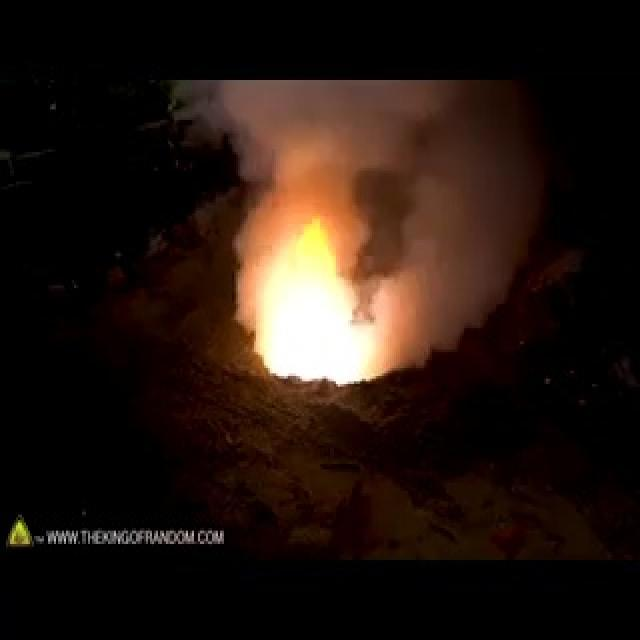Fire: (231, 201, 383, 375)
